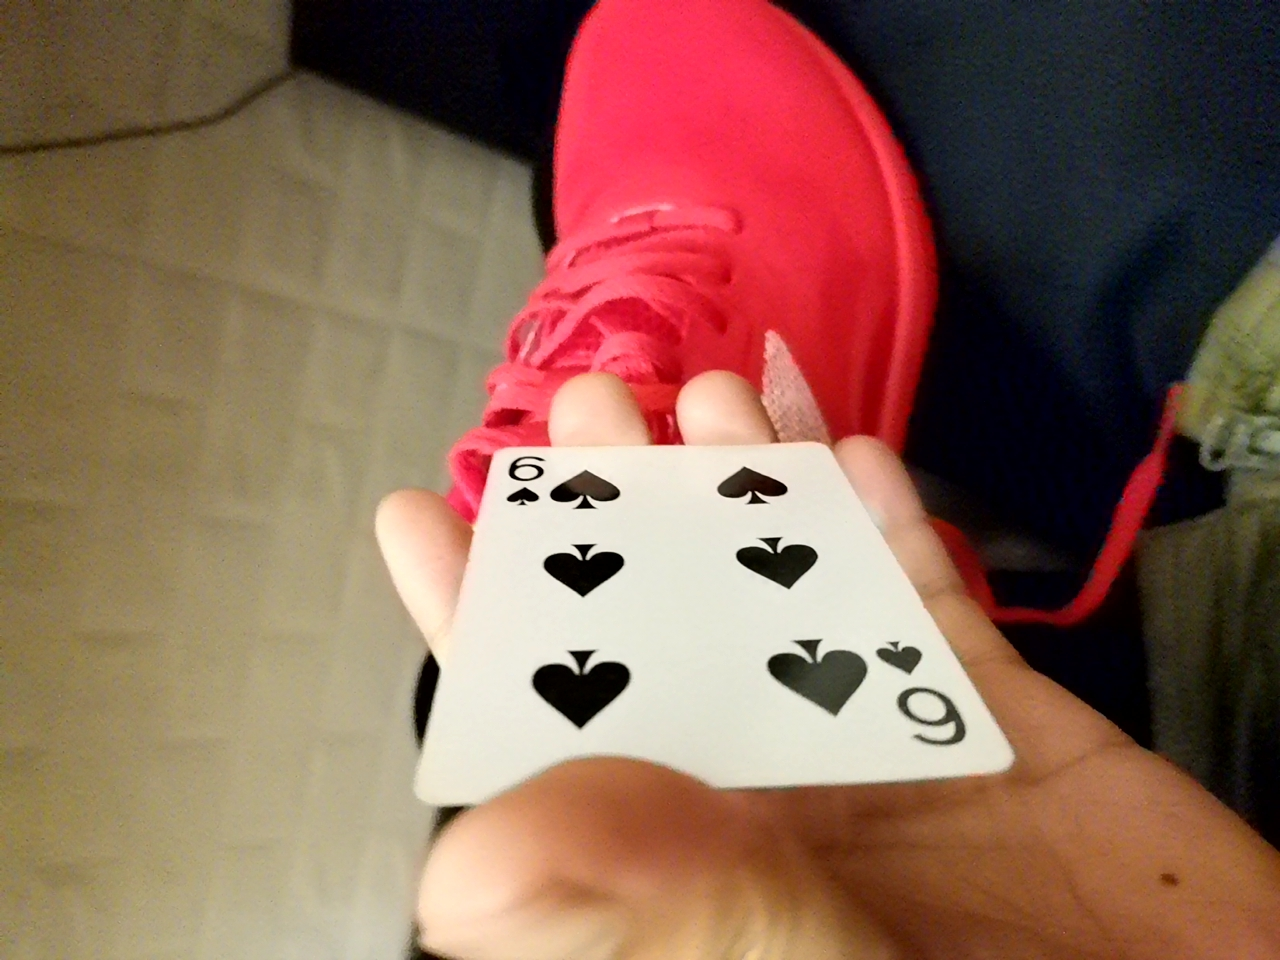ht 6: (405, 396, 997, 817)
